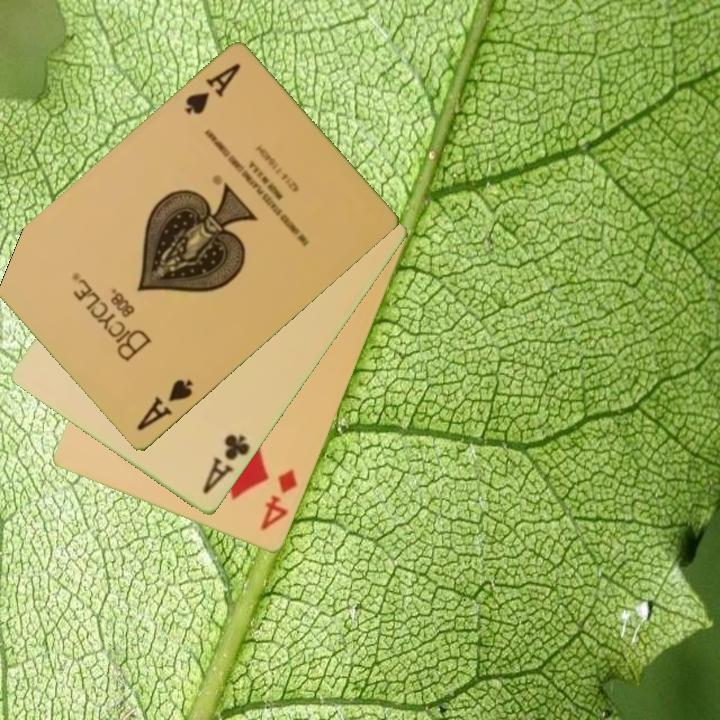4d: (257, 465, 301, 535)
Ac: (199, 431, 254, 498)
As: (133, 376, 197, 434), (180, 60, 244, 118)
